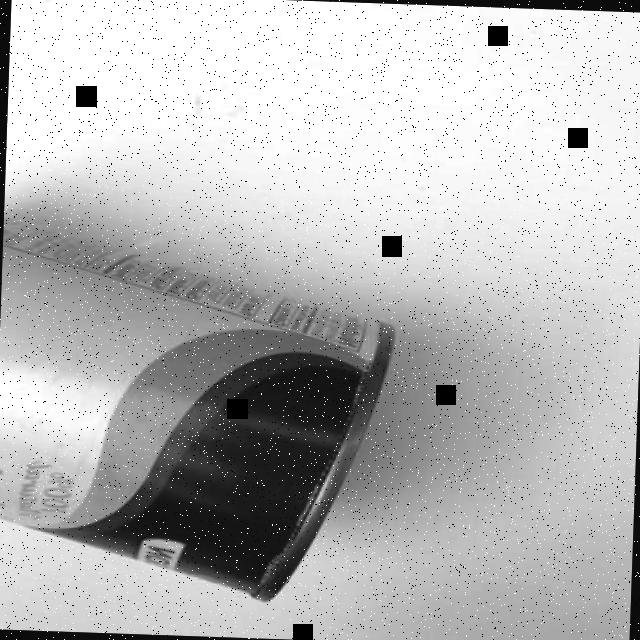can: (0, 218, 402, 607)
